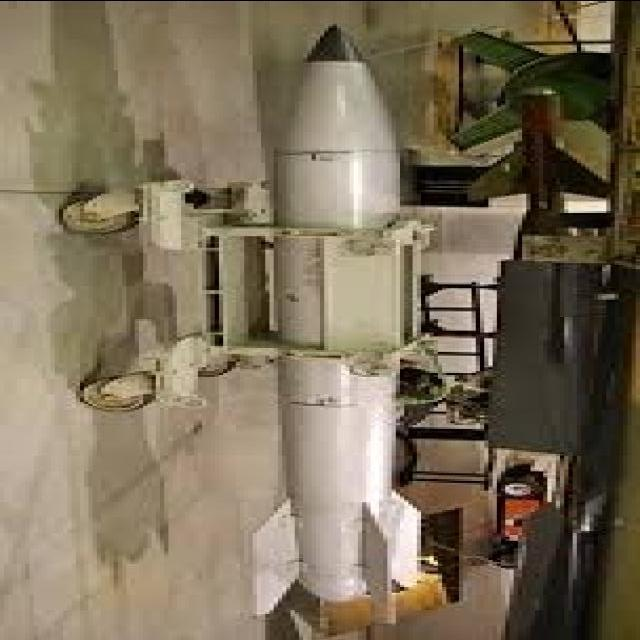Missile: (237, 16, 450, 620)
